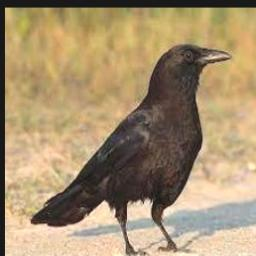Crow: (31, 44, 232, 256)
